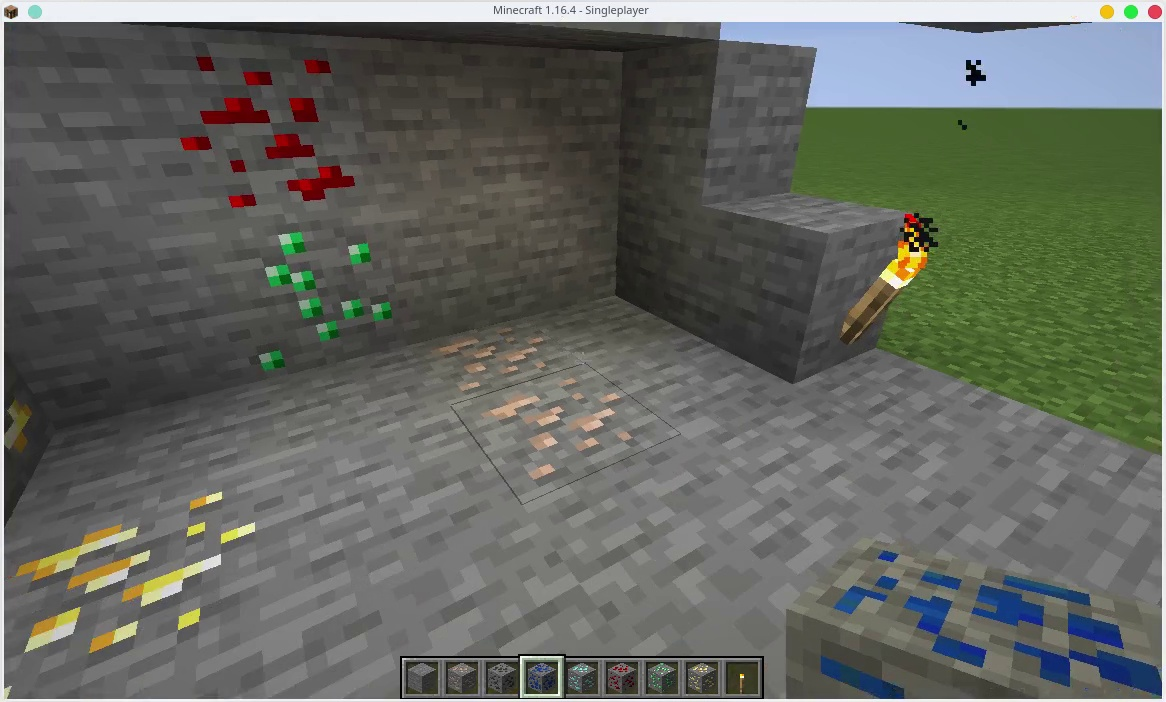gold: (4, 492, 281, 689), (687, 664, 716, 692)
